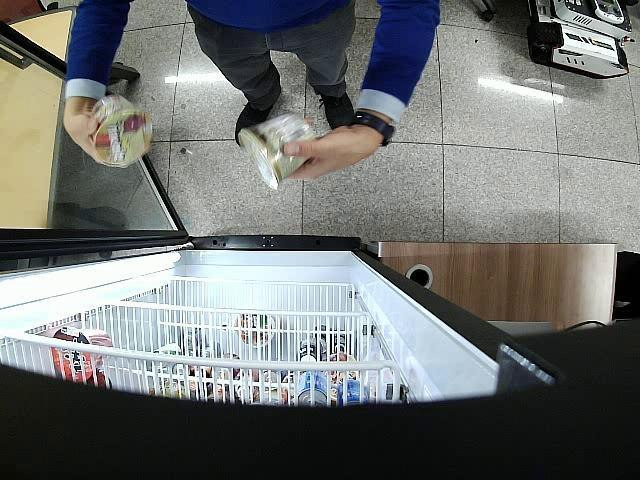04_chapagetti_S: (238, 114, 316, 192), (91, 96, 152, 167)
